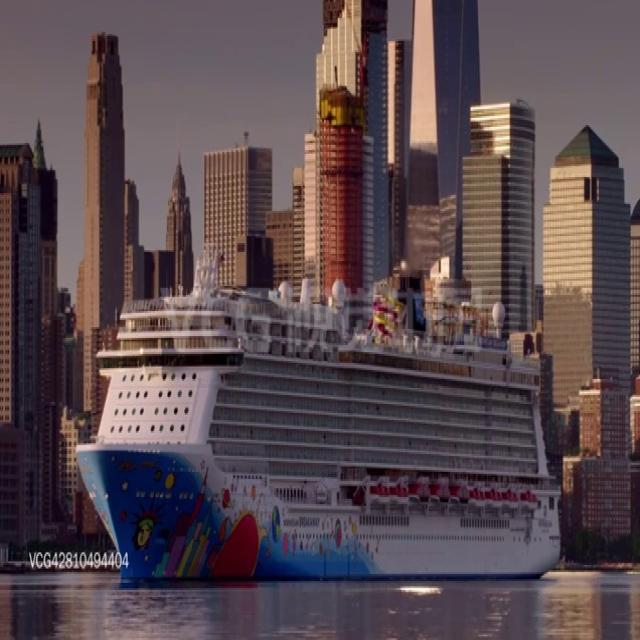passenger ship: (76, 264, 562, 584)
